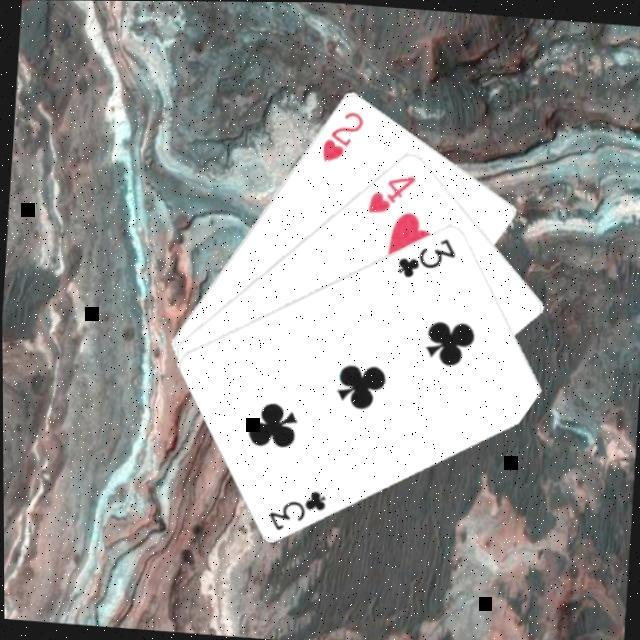2H: (316, 104, 366, 165)
3C: (392, 228, 458, 282), (262, 481, 328, 535)
4H: (363, 165, 418, 218)
